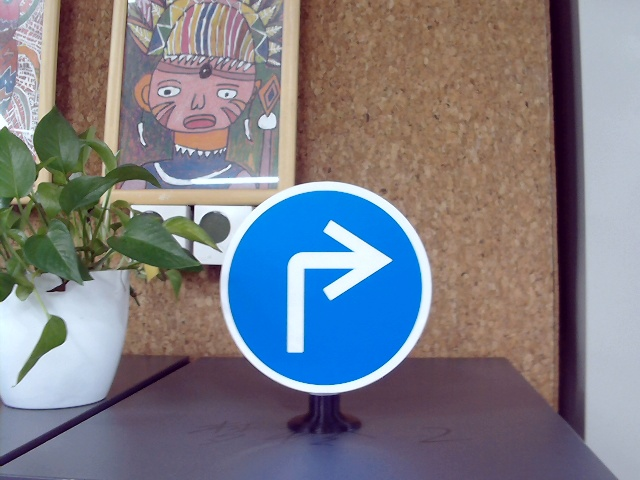turn_right: (269, 224, 393, 360)
